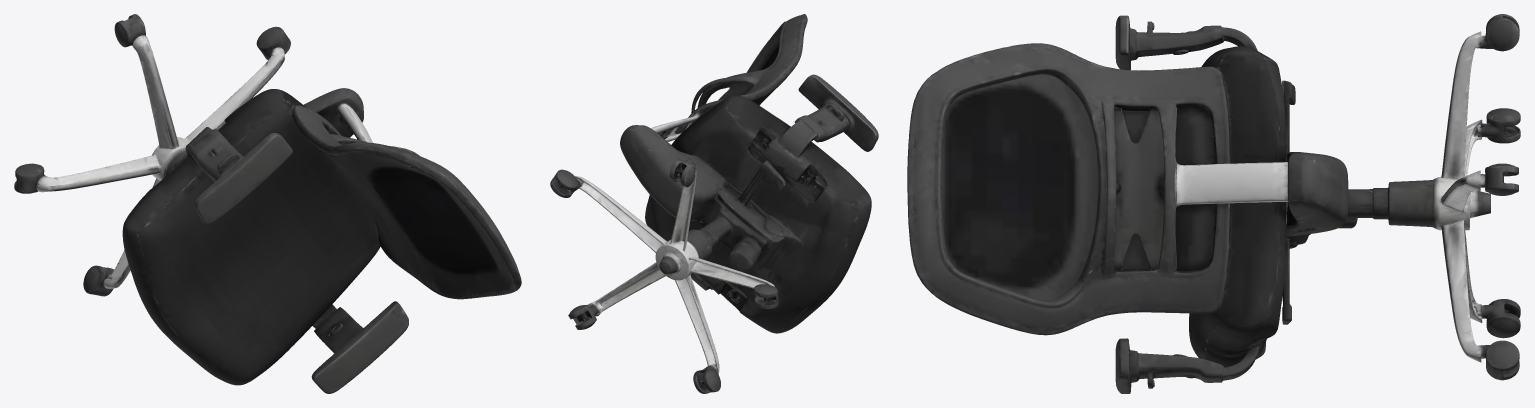
The picture shows the model from 3 angles, left to right: view 1: azimuth 30°, elevation 25°; view 2: azimuth 150°, elevation 25°; view 3: azimuth 270°, elevation 25°; orthographic projection. The views are drawn at different scales.
Parts seen in each view (by area): view 1: Sparsh.001; view 2: Sparsh.001; view 3: Sparsh.001.
Boxes of the visible parts, bbox=[...] form: Sparsh.001: bbox=[14, 14, 521, 393]; Sparsh.001: bbox=[550, 14, 878, 393]; Sparsh.001: bbox=[907, 14, 1520, 393].
Size of the model in its own units: 0.0212 by 0.0209 by 0.0323.
Materials: 1 (1 with a texture image).
